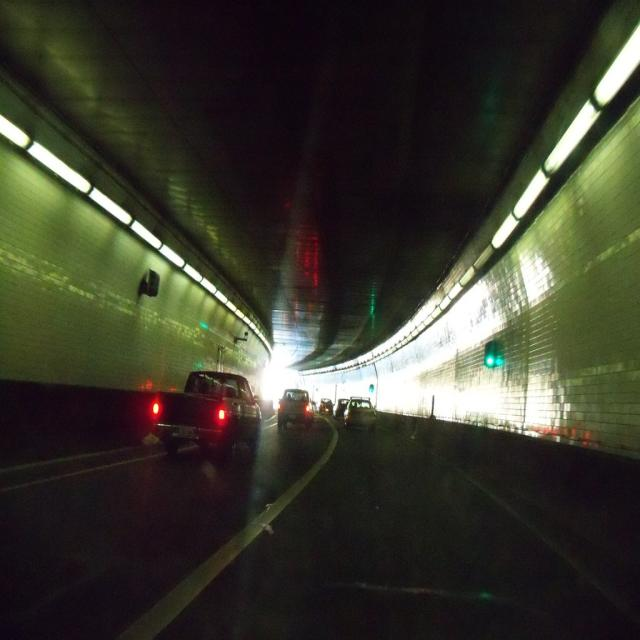car: (160, 365, 253, 453), (276, 384, 315, 428), (343, 396, 376, 431)
